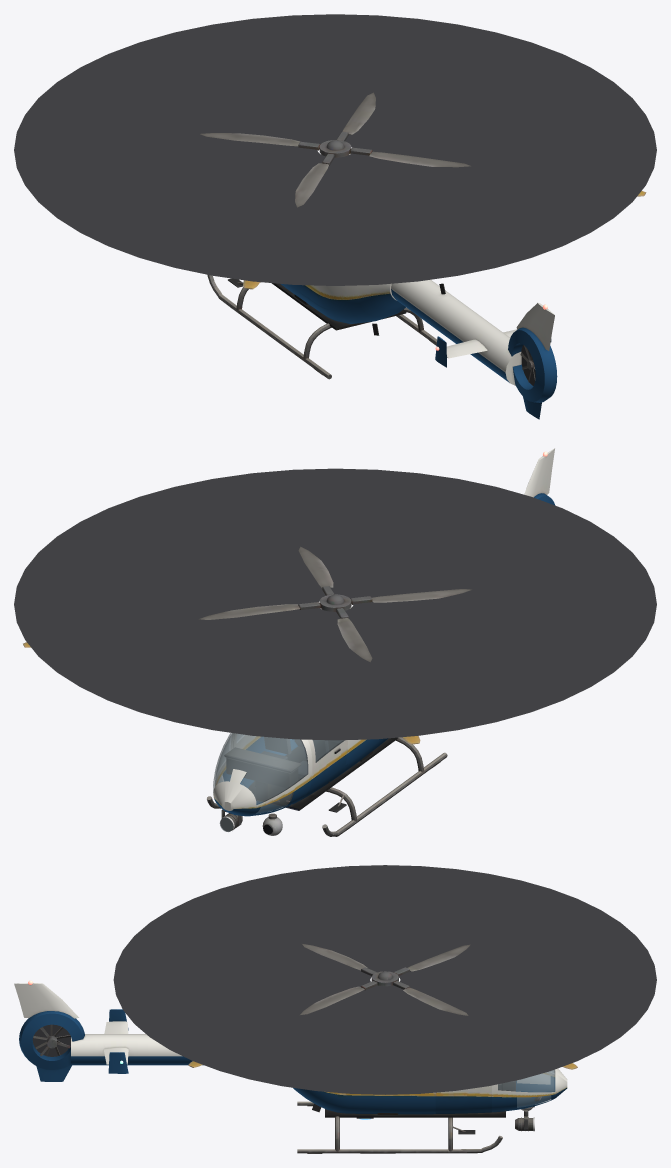
File: police_helicopter.glb
The picture shows the model from 3 angles, top to bottom: view 1: azimuth 30°, elevation 25°; view 2: azimuth 150°, elevation 25°; view 3: azimuth 270°, elevation 25°; orthographic projection. The views are drawn at different scales.
Parts seen in each view (by area): view 1: rotor_main_blur, lod0, rotor_main, interior; view 2: rotor_main_blur, lod0, interior, rotor_main, door_fl; view 3: rotor_main_blur, lod0, rotor_main, door_fr, interior, rotor_tail_blur.
Boxes of the visible parts, x1,y1,x2,y2 form: rotor_main_blur: (14, 14, 656, 285); lod0: (207, 274, 557, 419); rotor_main: (200, 92, 646, 289); interior: (271, 283, 406, 330); rotor_main_blur: (14, 468, 656, 740); lod0: (207, 448, 555, 836); interior: (224, 737, 397, 810); rotor_main: (23, 546, 471, 744); door_fl: (300, 739, 347, 800); rotor_main_blur: (113, 865, 656, 1094); lod0: (14, 980, 567, 1153); rotor_main: (188, 944, 577, 1069); door_fr: (435, 1085, 491, 1113); interior: (325, 1080, 516, 1117); rotor_tail_blur: (32, 1024, 70, 1056).
Size of what is drawn, in the model's own units: 10.8 by 3.45 by 12.78.
12 materials, 10 textured.
